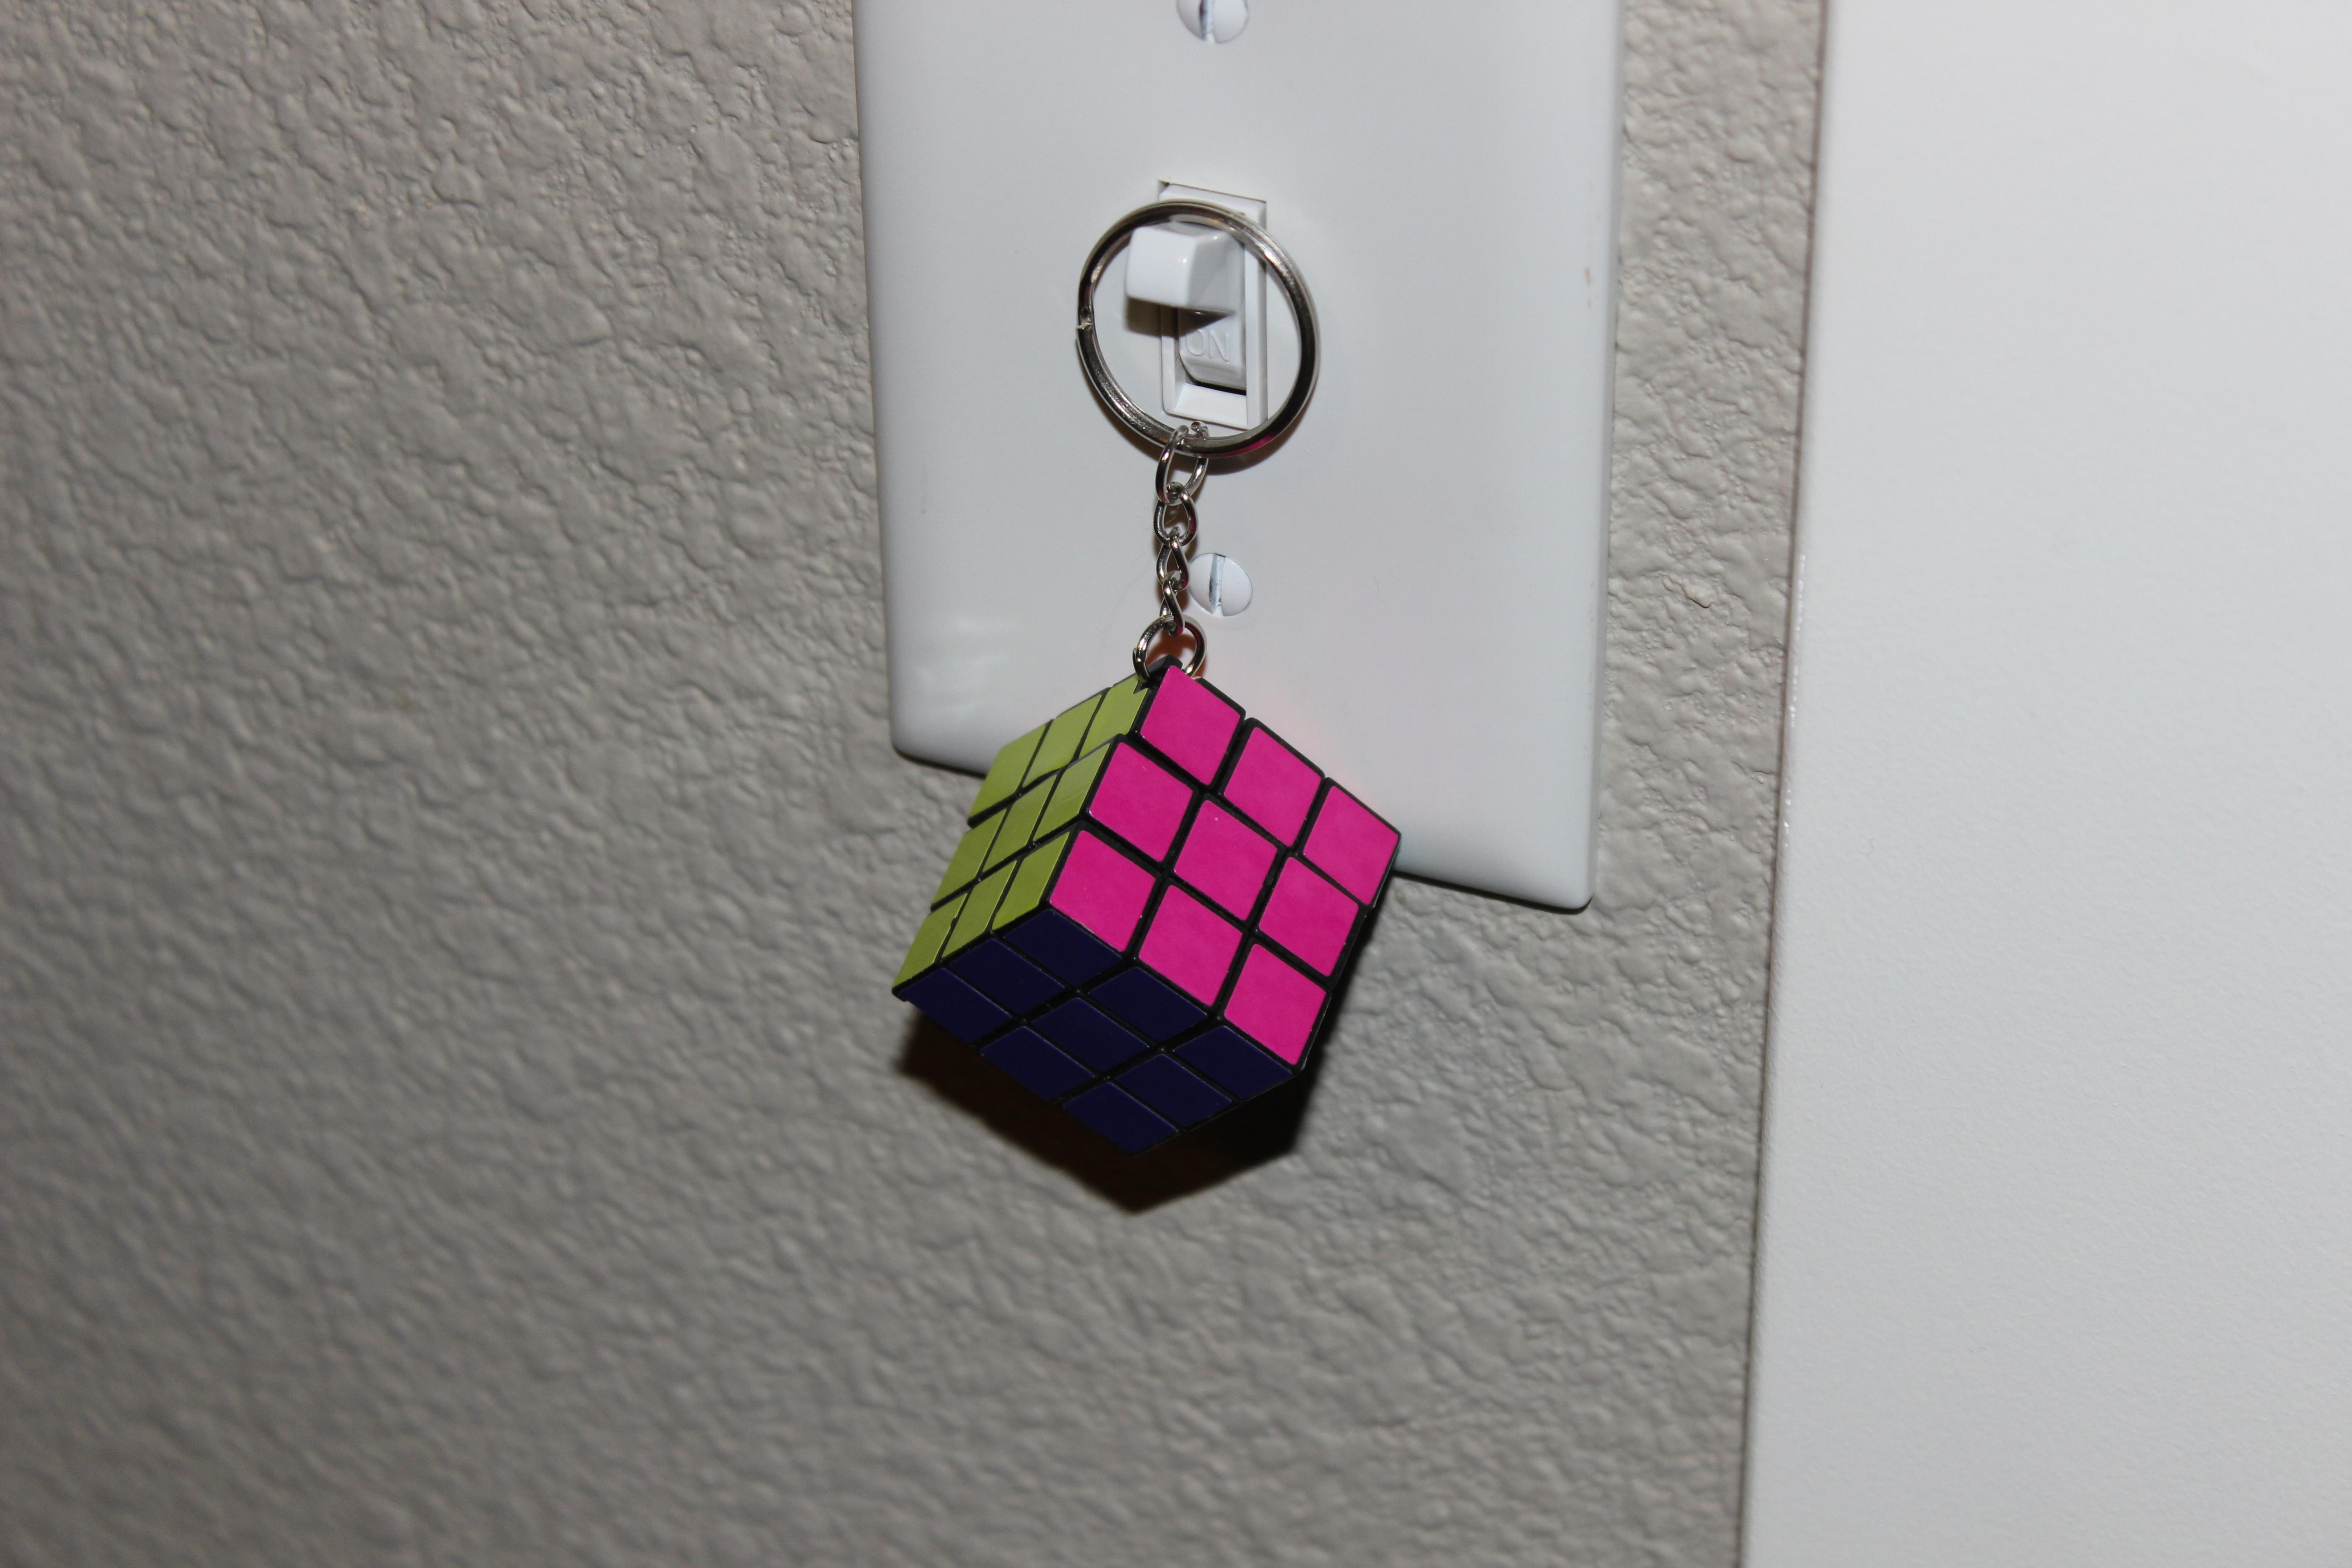rubiksCube: (880, 646, 1419, 1227)
